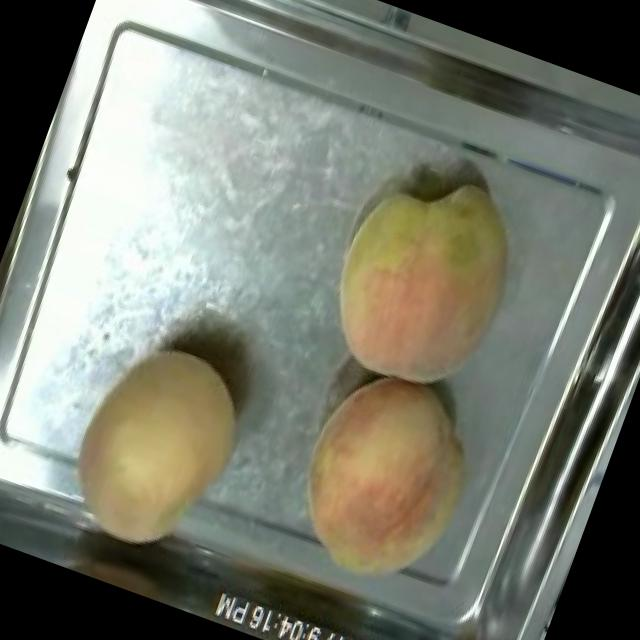Fruit: (298, 144, 544, 416), (267, 351, 506, 614), (42, 320, 270, 578)
